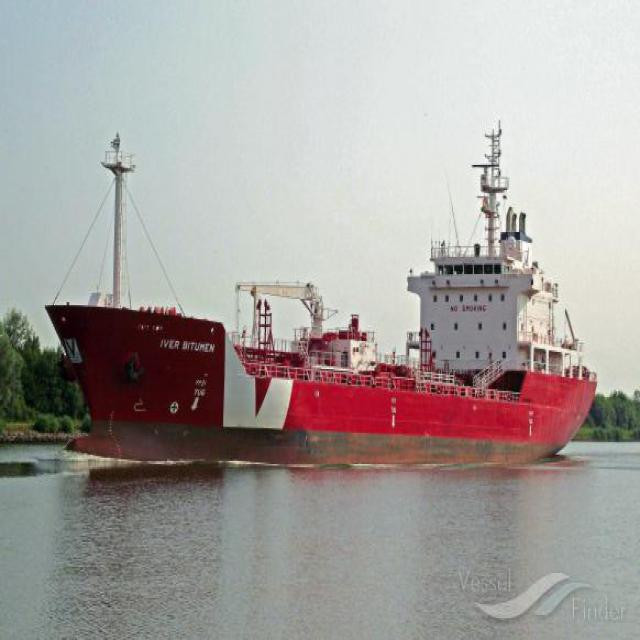OCR: (157, 334, 216, 359)
